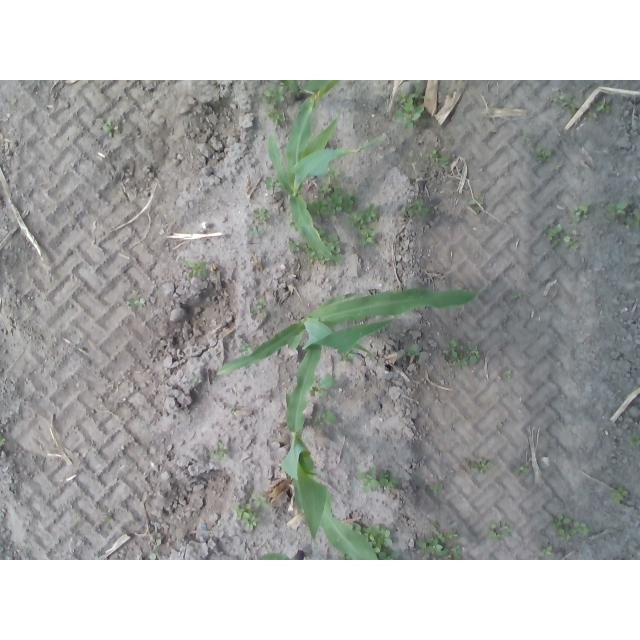Maize: (217, 289, 479, 375), (269, 80, 385, 264), (280, 345, 378, 560), (280, 80, 329, 100), (259, 550, 306, 560)
Weeds: (396, 98, 425, 129), (416, 538, 448, 557), (359, 467, 380, 493), (317, 406, 336, 430), (318, 372, 337, 396), (325, 193, 344, 216), (263, 87, 284, 106), (208, 442, 228, 461), (552, 515, 570, 535), (604, 201, 628, 216), (410, 83, 429, 101), (308, 200, 328, 217), (564, 230, 580, 250), (570, 206, 588, 223), (189, 262, 207, 279), (378, 529, 394, 548), (243, 512, 258, 532), (236, 504, 253, 521), (251, 493, 270, 508), (614, 488, 630, 505), (348, 211, 364, 228), (103, 119, 118, 137), (547, 225, 562, 243), (571, 522, 589, 537), (361, 226, 376, 243), (470, 345, 483, 364), (366, 525, 382, 540), (470, 199, 486, 214), (270, 108, 287, 122), (344, 195, 355, 216), (366, 204, 378, 223), (266, 177, 281, 192), (596, 98, 610, 114), (462, 459, 478, 473), (625, 212, 640, 226), (329, 233, 343, 248), (453, 356, 468, 370), (254, 208, 270, 221), (379, 468, 389, 488), (478, 459, 492, 473), (328, 166, 341, 181), (501, 522, 513, 538), (404, 346, 420, 358), (379, 552, 400, 561), (127, 299, 145, 309), (489, 522, 500, 538), (394, 89, 406, 103), (539, 546, 553, 558), (452, 545, 463, 560), (417, 200, 428, 215), (289, 240, 302, 252), (537, 149, 551, 160), (443, 349, 458, 359), (240, 343, 253, 354), (256, 299, 269, 310), (388, 477, 401, 488), (509, 290, 523, 300), (429, 482, 443, 492), (515, 465, 529, 475), (552, 91, 564, 102), (321, 182, 332, 194), (252, 227, 264, 237), (320, 255, 331, 265), (438, 533, 447, 544), (342, 355, 355, 362), (448, 532, 459, 540), (450, 339, 459, 348), (630, 438, 640, 446), (439, 159, 450, 166), (309, 253, 316, 264), (251, 309, 258, 319), (497, 423, 504, 432), (432, 149, 438, 159), (525, 135, 532, 142), (0, 434, 4, 446), (229, 407, 236, 413), (508, 370, 513, 378), (605, 220, 612, 225), (360, 239, 365, 246)
